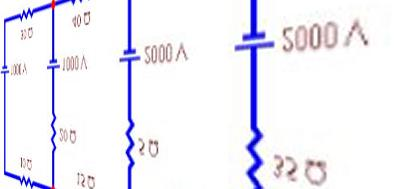resistor: (235, 117, 268, 188), (117, 113, 135, 167), (9, 168, 39, 187), (8, 0, 34, 18), (47, 110, 57, 150)
